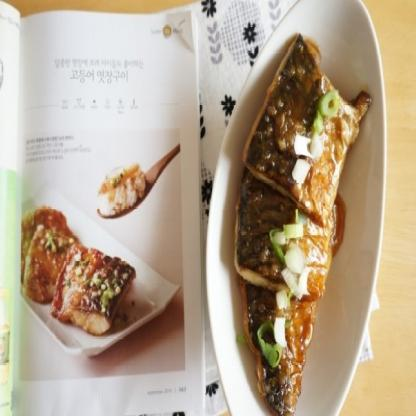Peixe: (205, 45, 379, 416), (14, 222, 132, 341)
